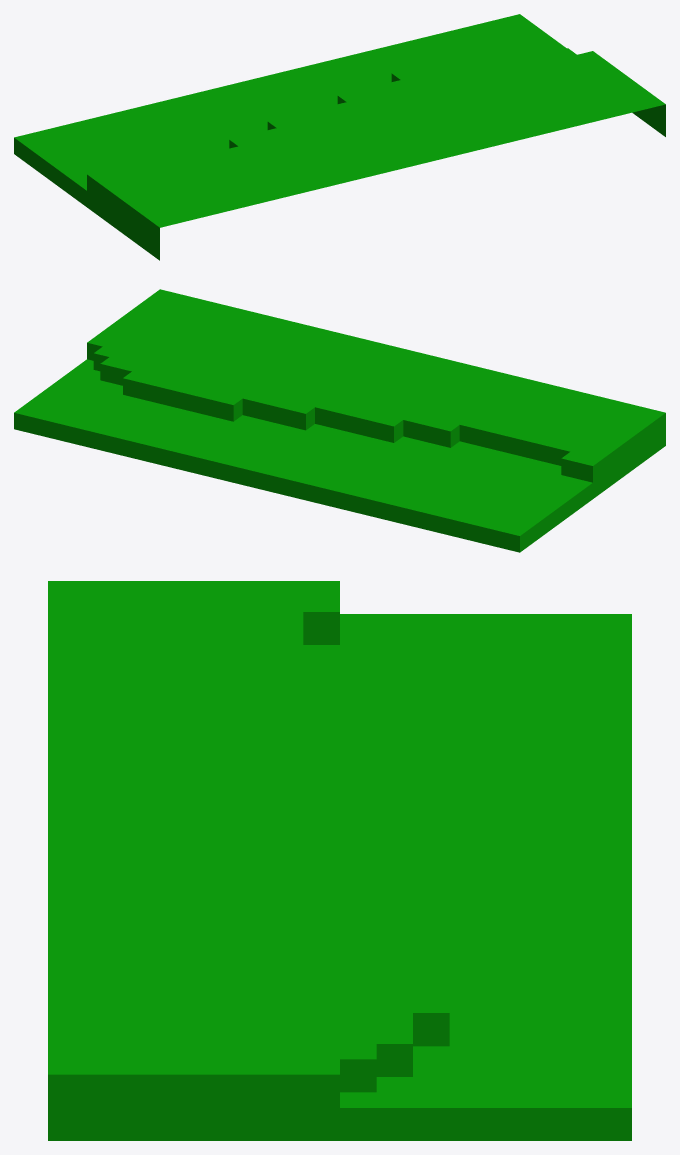
Rendered from Straight13.fbx.
The picture shows the model from 3 angles, top to bottom: view 1: azimuth 30°, elevation 25°; view 2: azimuth 150°, elevation 25°; view 3: azimuth 270°, elevation 25°; orthographic projection. The views are drawn at different scales.
Visible parts, largest first — view 1: Matrix; view 2: Matrix; view 3: Matrix.
Part boxes in pixels (left/top/right/bottom): Matrix: left=14, top=14, right=665, bottom=260; Matrix: left=14, top=289, right=665, bottom=552; Matrix: left=48, top=581, right=631, bottom=1140.
Size of the model in its own units: 32 by 2 by 16.
Materials: 1 (1 with a texture image).
